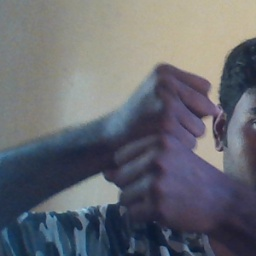G: (109, 57, 222, 233)
